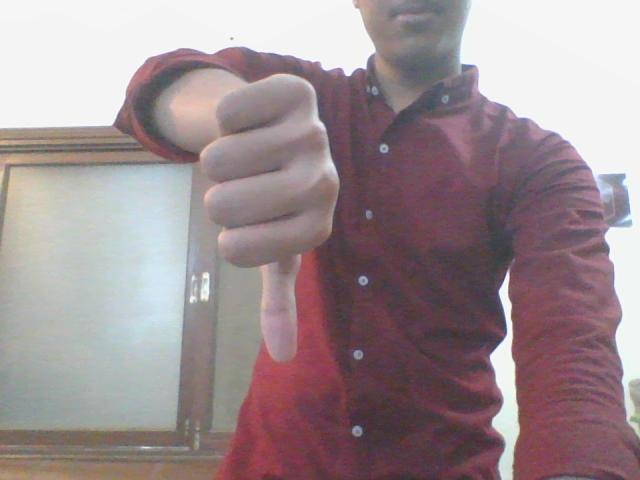thumbs-down: (203, 73, 346, 370)
